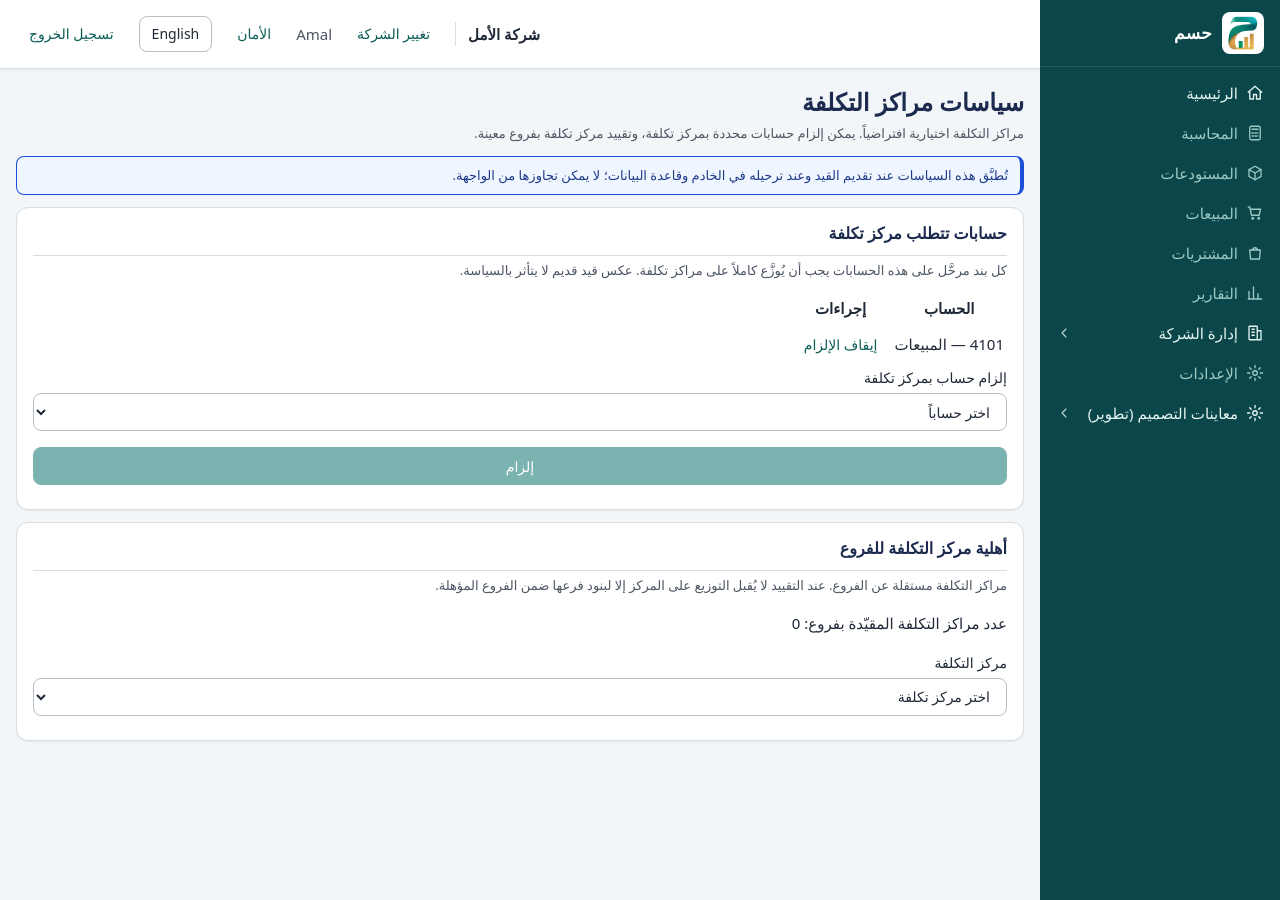
it: cost center policies screen › requires a cost center for an account with the rule revision it read (0 for a never-configured account)
Expected: the element with test id "company-name" is shown, left=455, top=22, right=540, bottom=46
Step 1. Select "5101 — إيجار" in the dropdown labelled "إلزام حساب بمركز تكلفة" → (520, 412), box left=33, top=393, right=1007, bottom=431
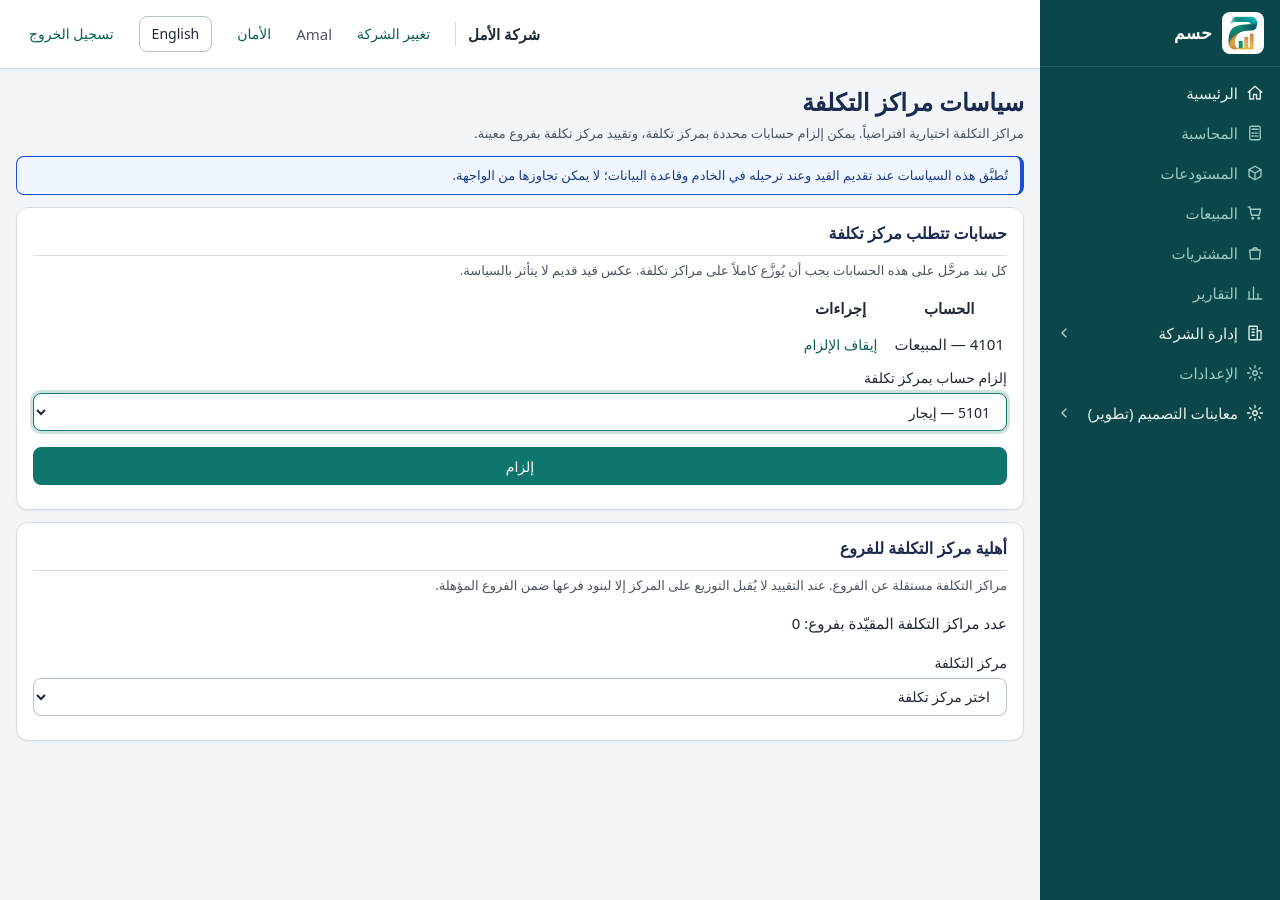
Step 2. Click the button "إلزام" → (520, 466), box left=33, top=447, right=1007, bottom=485
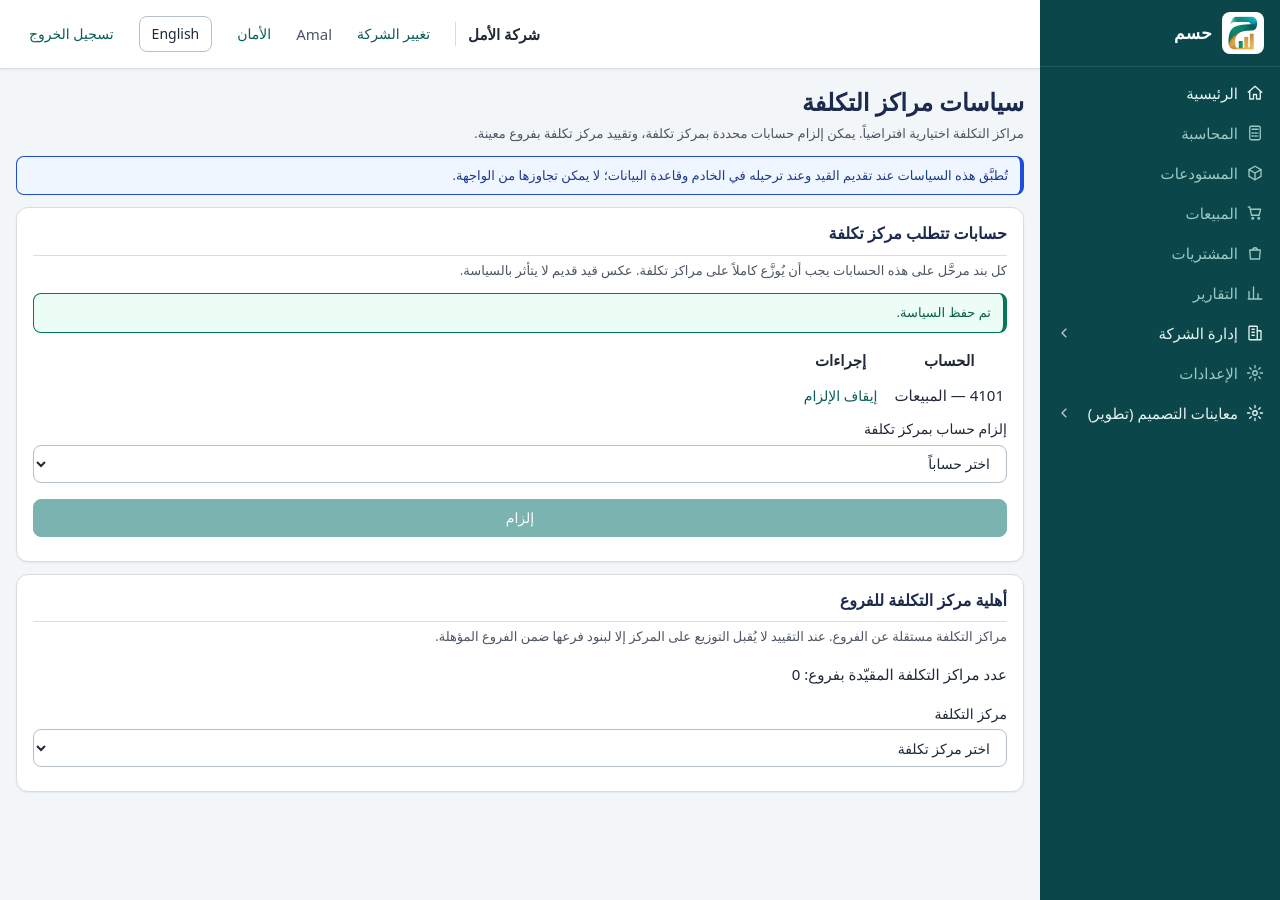
Now the text "تم حفظ السياسة." is shown, box left=33, top=293, right=1007, bottom=333
